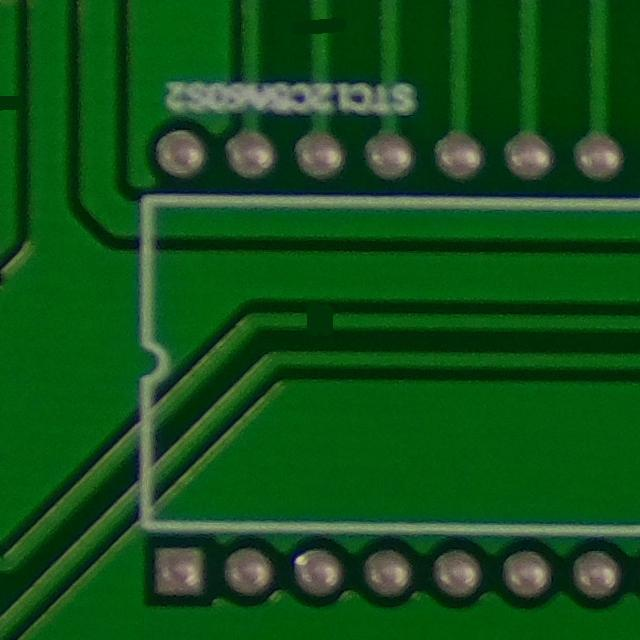open_circuit: (296, 302, 345, 338)
